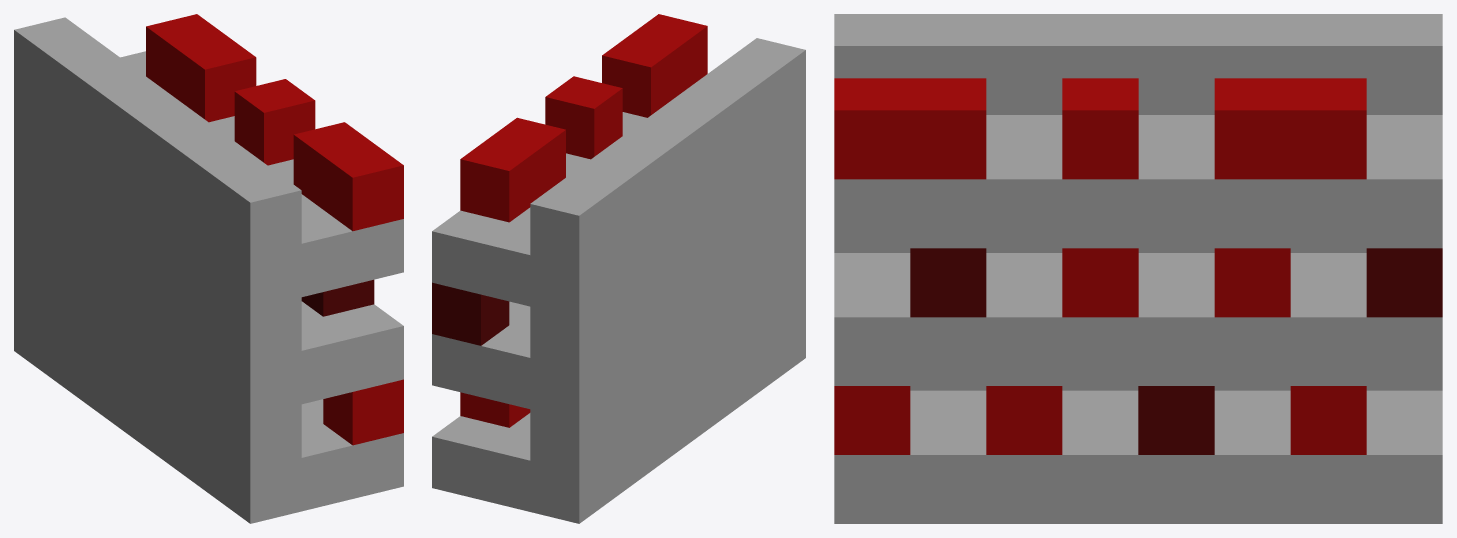
The model's file is shelfnew.glb.
3 renders of one model, left to right at view 1: azimuth 30°, elevation 25°; view 2: azimuth 150°, elevation 25°; view 3: azimuth 270°, elevation 25°, orthographic. The views are drawn at different scales.
Parts seen in each view (by area): view 1: Untitled; view 2: Untitled; view 3: Untitled.
Part boxes in pixels (left/top/right/bottom): Untitled: left=14, top=14, right=403, bottom=523; Untitled: left=432, top=14, right=805, bottom=523; Untitled: left=834, top=14, right=1442, bottom=523.
Size of the model in its own units: 0.3 by 0.6 by 0.8.
Materials: 1 (1 with a texture image).
